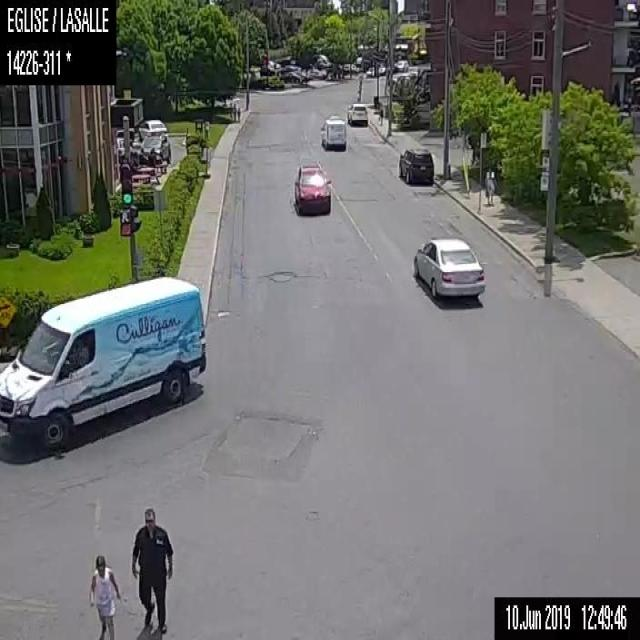pedestrian: (129, 508, 173, 631), (88, 554, 119, 638), (484, 164, 494, 205), (377, 104, 383, 125)
vehicle: (0, 274, 205, 448), (412, 234, 484, 298), (293, 162, 330, 215), (397, 145, 433, 183), (138, 133, 172, 164), (318, 116, 346, 149), (344, 99, 366, 127), (138, 118, 167, 135), (278, 69, 304, 84), (393, 58, 408, 72)
